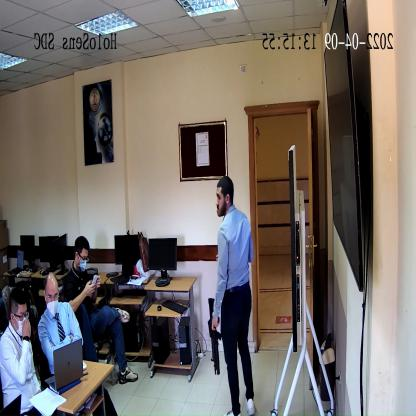handgun: (206, 296, 223, 376)
